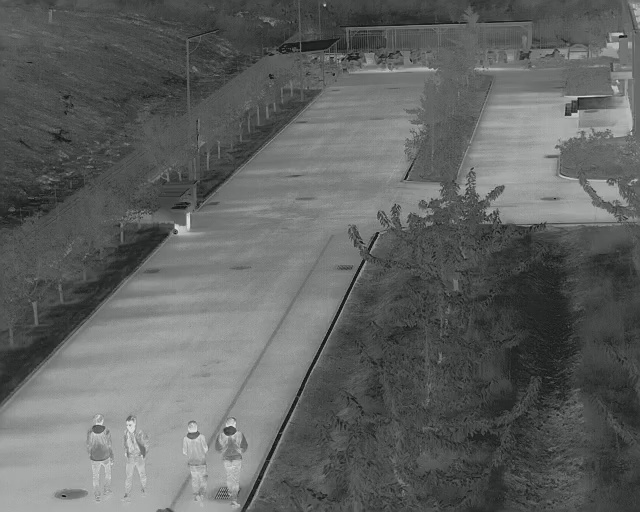person: (215, 417, 245, 508), (84, 414, 115, 499), (181, 421, 211, 505), (120, 416, 150, 499)
